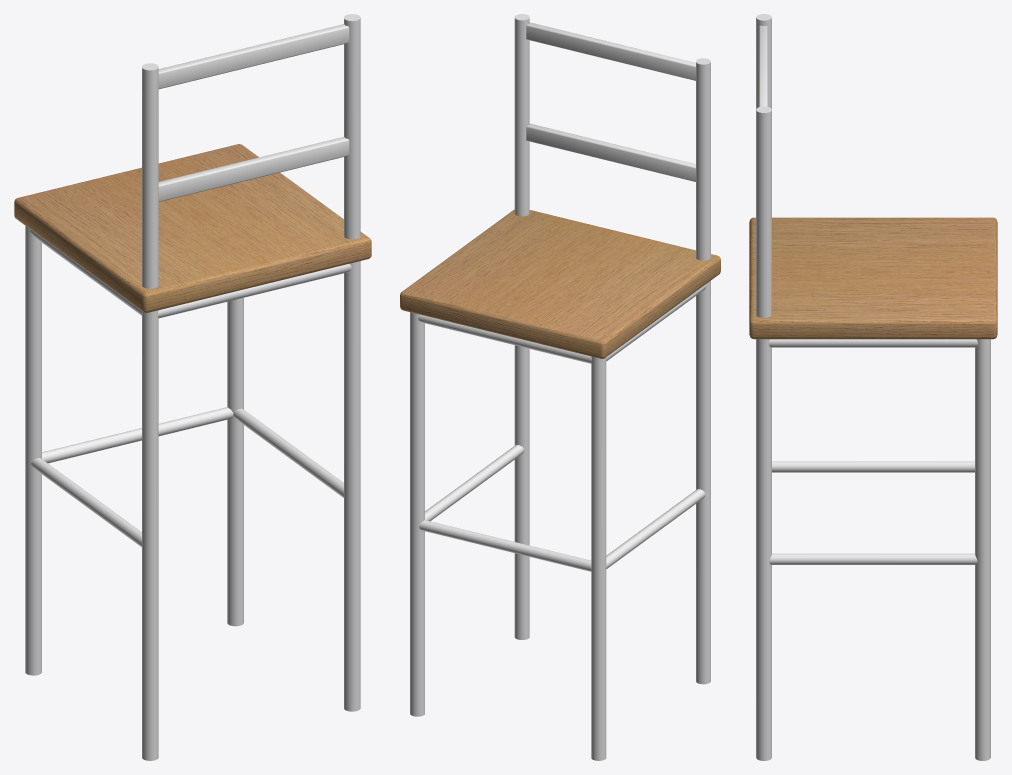
File: rechHKJzd2wQeVflC.glb
3 renders of one model, left to right at view 1: azimuth 30°, elevation 25°; view 2: azimuth 150°, elevation 25°; view 3: azimuth 270°, elevation 25°, orthographic. The views are drawn at different scales.
Visible parts, largest first — view 1: Tabouret_Bar_1_Corps; view 2: Tabouret_Bar_1_Corps; view 3: Tabouret_Bar_1_Corps.
Part boxes in pixels (bbox=[...]): Tabouret_Bar_1_Corps: bbox=[14, 14, 371, 760]; Tabouret_Bar_1_Corps: bbox=[400, 14, 720, 760]; Tabouret_Bar_1_Corps: bbox=[749, 14, 997, 760].
Bounding box in the file's own units: 0.34 × 0.98 × 0.34.
Materials: 2 (1 with a texture image).
